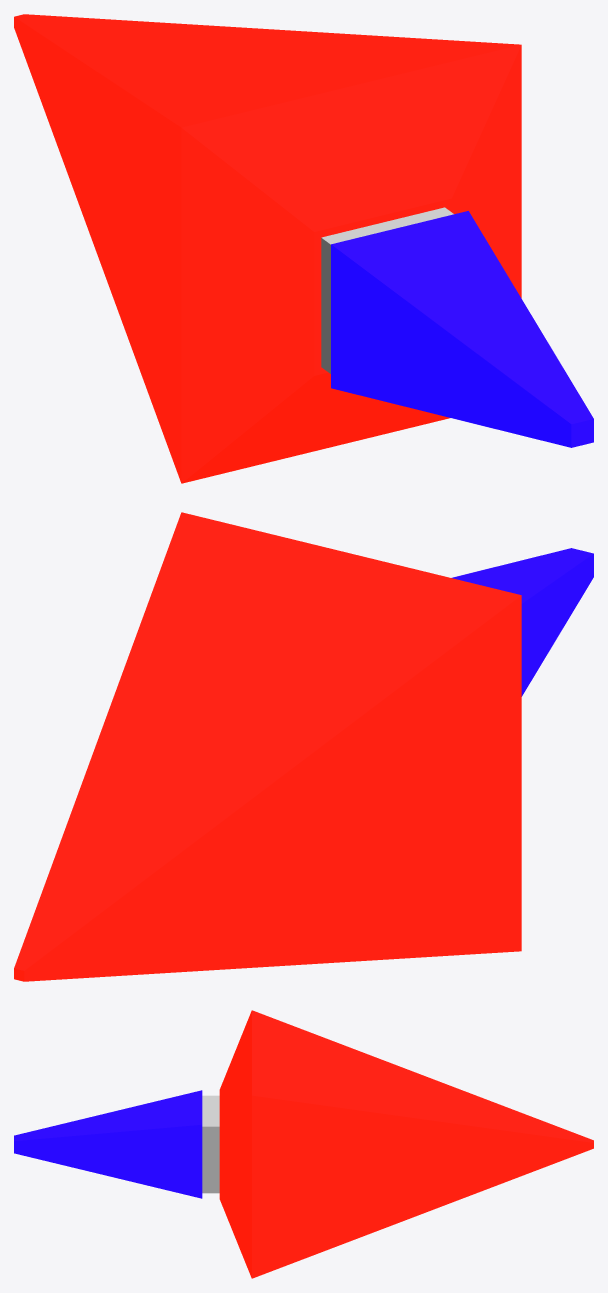
File: Arrow.fbx
3 views of the same model, one above another, from view 1: azimuth 30°, elevation 25°; view 2: azimuth 150°, elevation 25°; view 3: azimuth 270°, elevation 25° (orthographic). The views are drawn at different scales.
Visible parts, largest first — view 1: Cube; view 2: Cube; view 3: Cube.
Boxes of the visible parts, left/top/right/bottom form: Cube: left=14, top=14, right=593, bottom=483; Cube: left=14, top=512, right=593, bottom=981; Cube: left=14, top=1010, right=593, bottom=1278.
Bounding box in the file's own units: 118 × 118 × 339.
